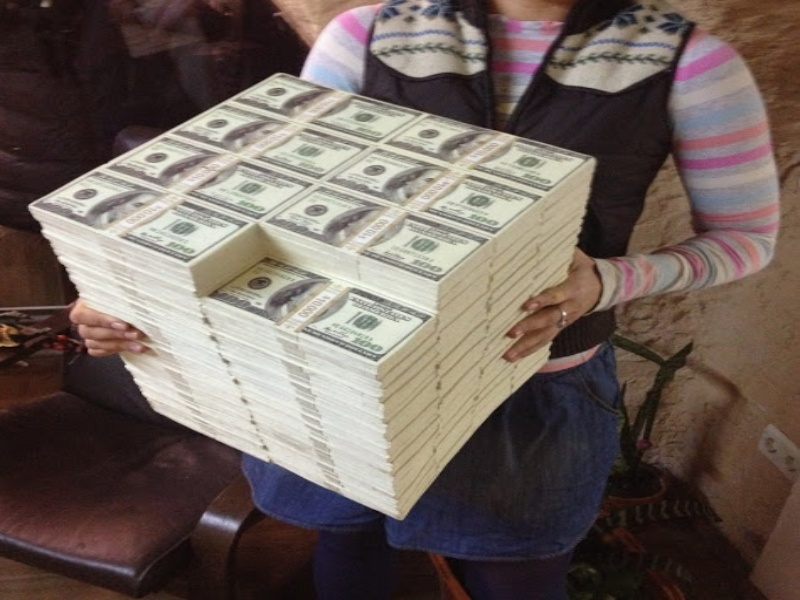cash: (26, 72, 597, 520)
person: (297, 1, 780, 597)
